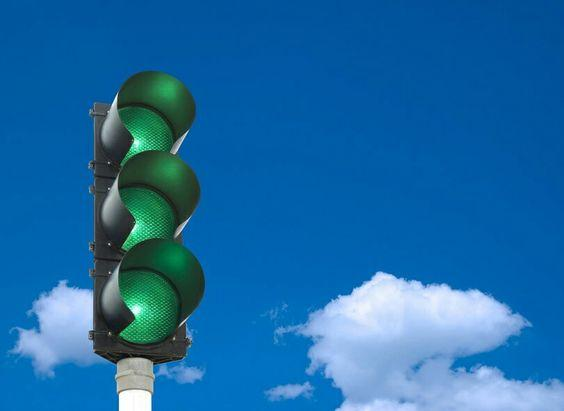Traffic light green: (78, 74, 222, 358)
